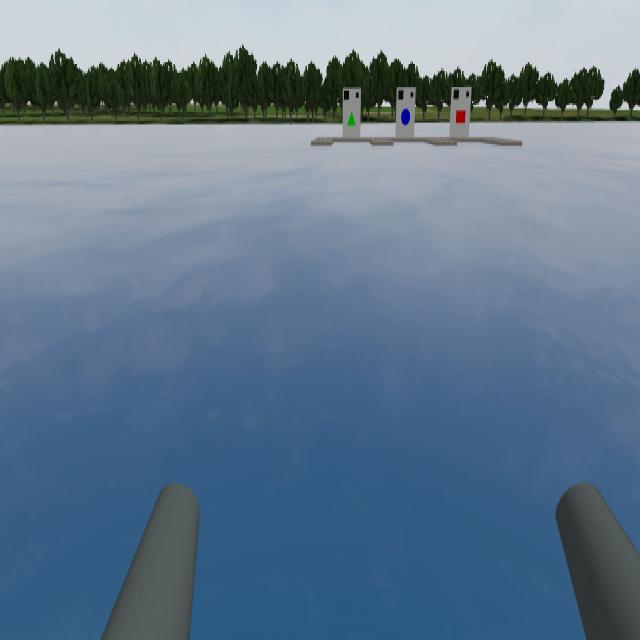dock: (396, 86, 416, 139), (450, 87, 470, 140), (344, 90, 362, 136)
